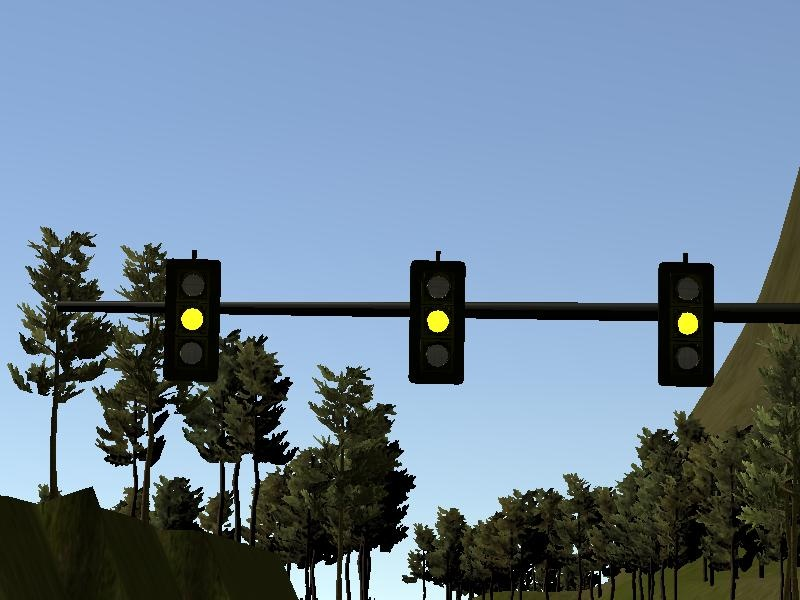YELLOW: (160, 256, 223, 384), (409, 258, 465, 386), (658, 260, 714, 388)
